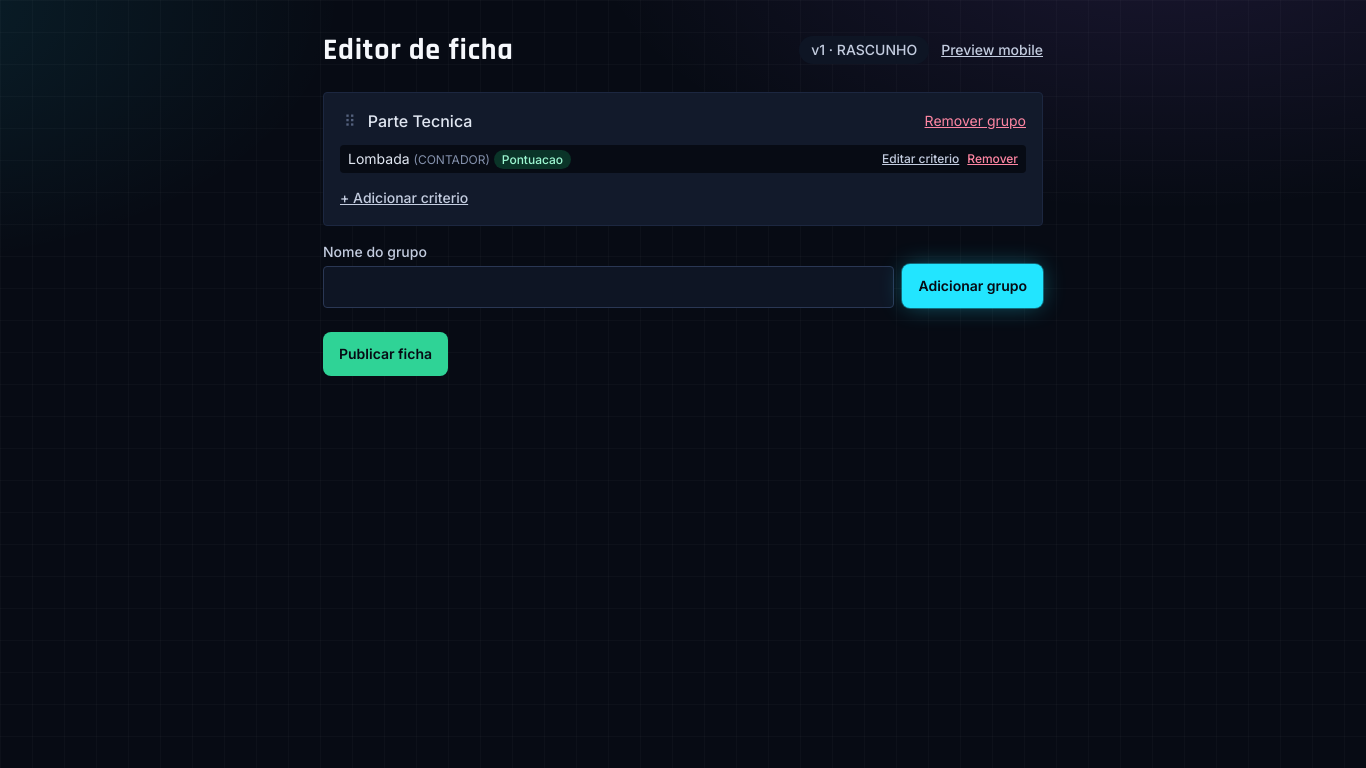
FichaEditorPage › mostra valores permitidos em vez de pontos quando o formato e escala
This screenshot has width=1366, height=768.
Click the button "+ Adicionar criterio": (404, 198) [340,188,468,208]
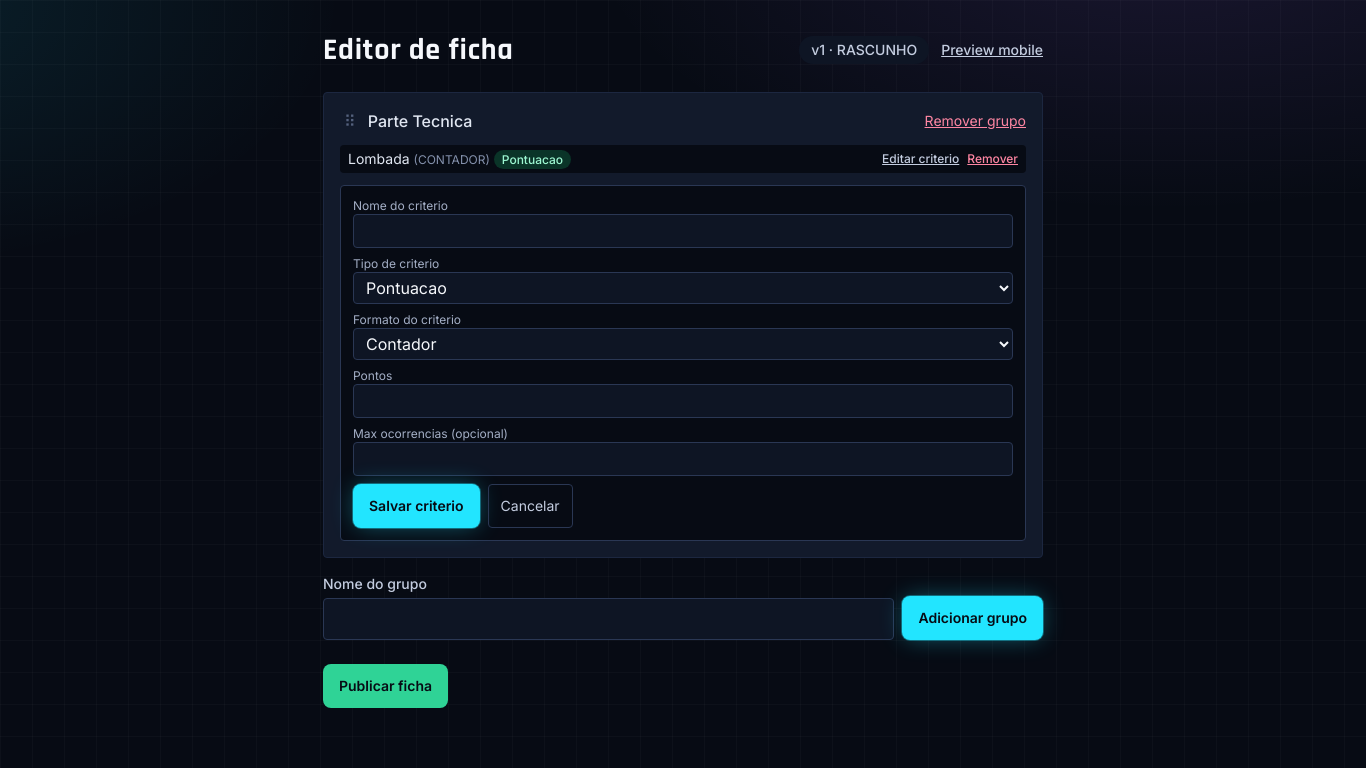
Expected: the number field labelled "Pontos" is shown, [353,384,1013,418]
Select "Escala" in the dropdown labelled "Formato do criterio": (683, 344) [353,328,1013,360]
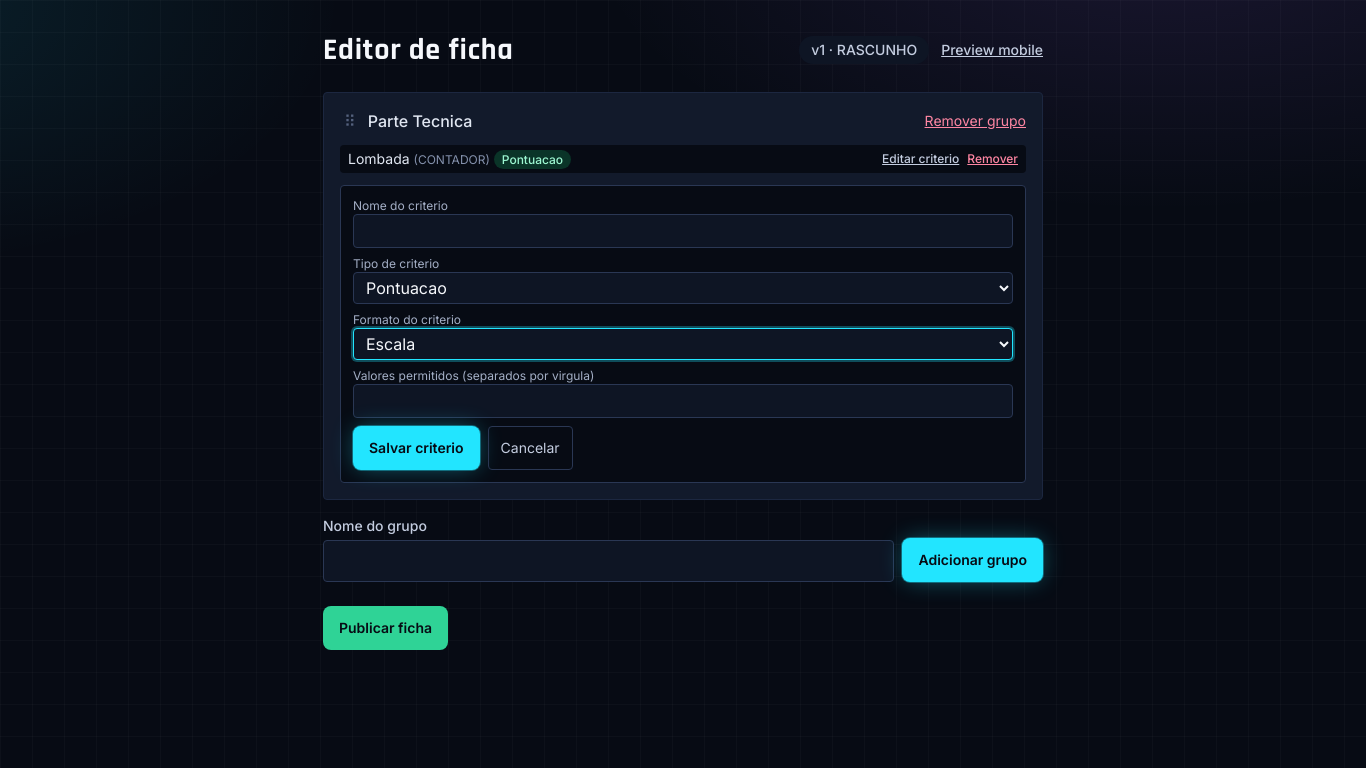
Expected: the field labelled "Valores permitidos (separados por virgula)" is shown, [353,384,1013,418]
Expected: the label labelled "Pontos" is gone
